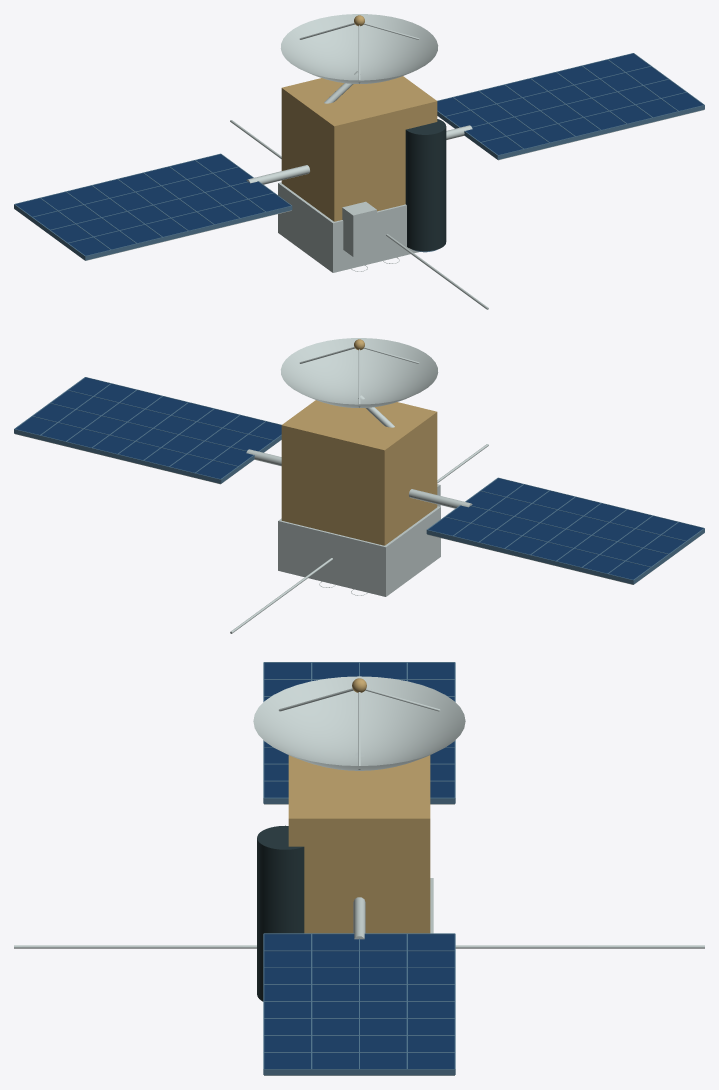
File: mro.glb
3 views of the same model, one above another, from view 1: azimuth 30°, elevation 25°; view 2: azimuth 150°, elevation 25°; view 3: azimuth 270°, elevation 25° (orthographic). The views are drawn at different scales.
Parts seen in each view (by area): view 1: solar, body, antenna, instruments; view 2: solar, body, antenna, instruments; view 3: solar, body, antenna, instruments.
Boxes of the visible parts, box(x1,y1,x2,y2) form: solar: box(14, 53, 704, 260); body: box(278, 76, 437, 272); antenna: box(280, 14, 438, 103); instruments: box(230, 119, 488, 309); solar: box(14, 377, 704, 584); body: box(278, 400, 440, 596); antenna: box(280, 338, 438, 427); instruments: box(230, 444, 488, 633); solar: box(263, 662, 455, 1075); body: box(288, 755, 433, 933); antenna: box(253, 676, 465, 770); instruments: box(14, 825, 704, 1001).
Size of the model in its own units: 7.81 by 2.85 by 5.6.
